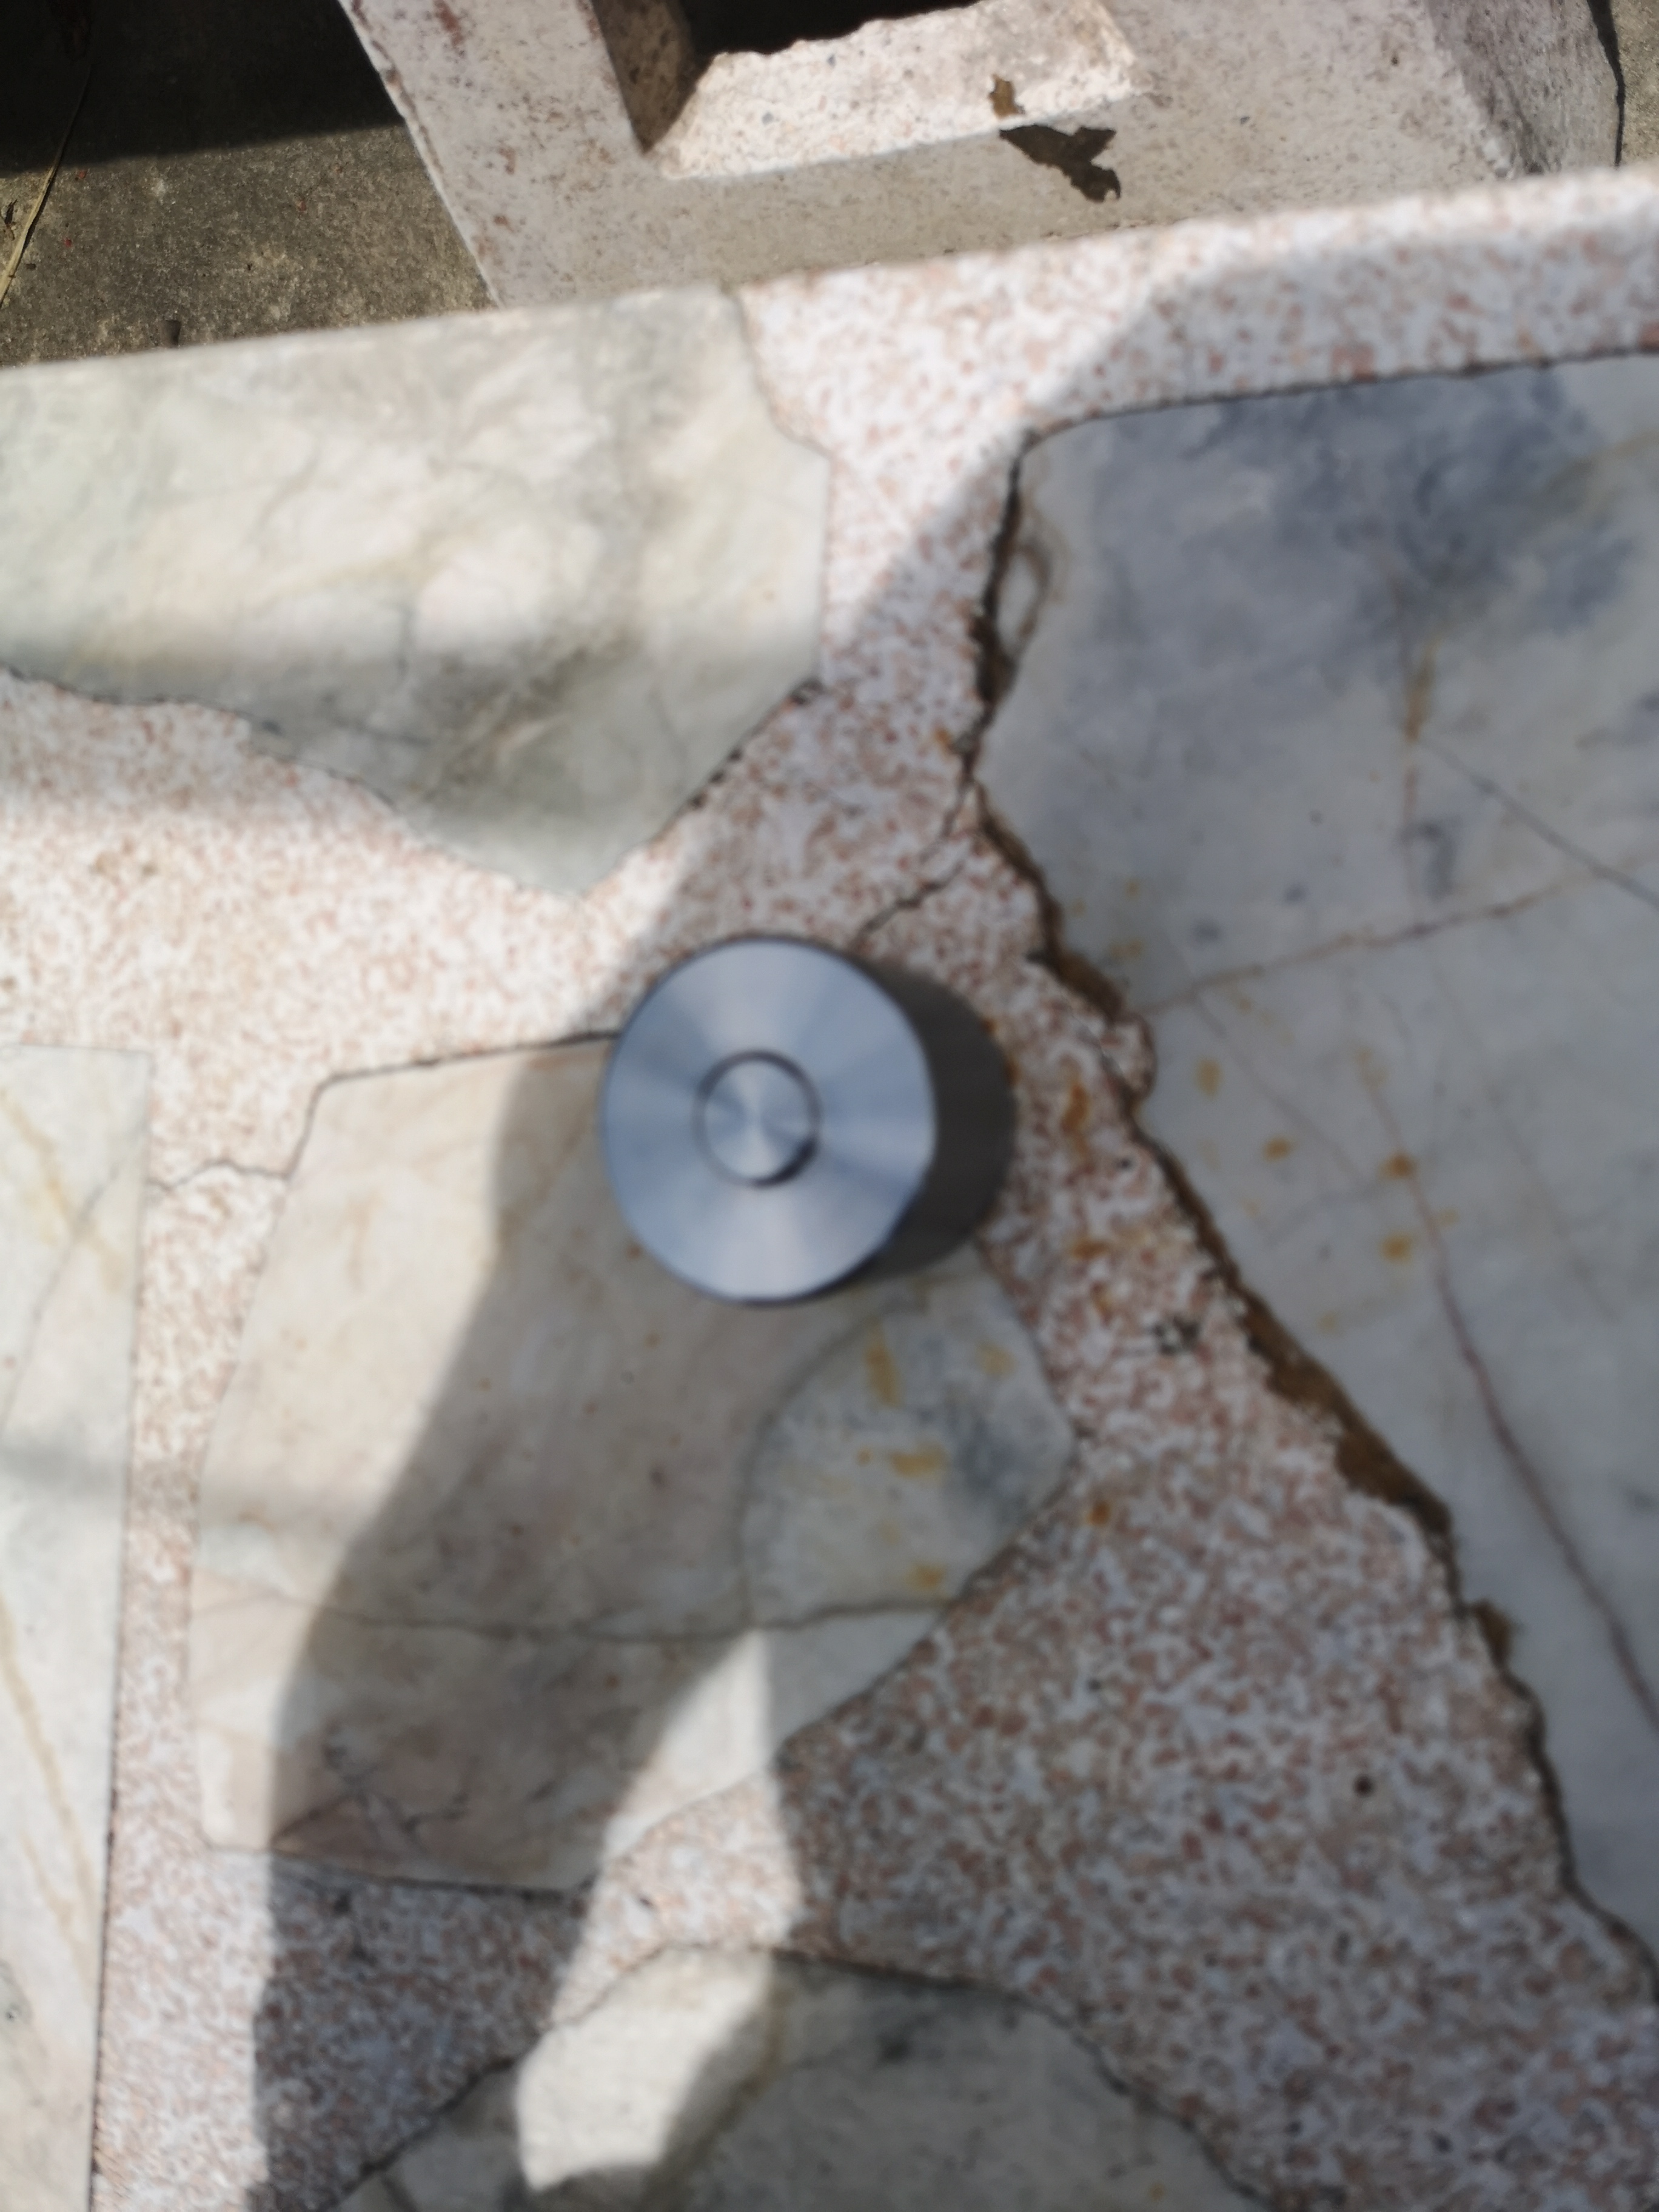ลูกสูบดิสเบรค: (584, 916, 1044, 1378)
